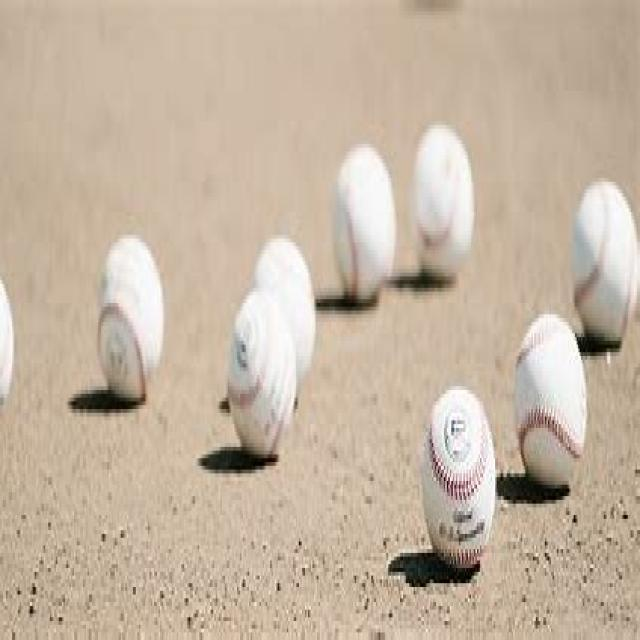ball: (422, 384, 499, 575), (512, 308, 588, 493), (226, 284, 297, 464), (97, 231, 167, 404), (332, 141, 399, 305), (410, 121, 476, 284)
